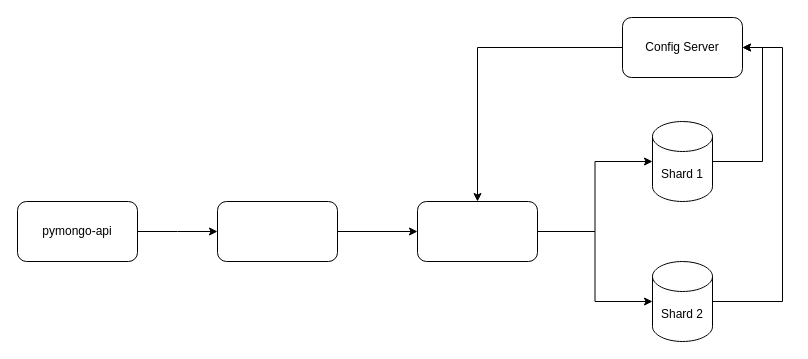
Image size: 808x359. Some labels were removed from this diagram. The box of each missing label's shape, as (x1, y1, x2, y2) in pixels:
Driver: (216, 200, 338, 262)
Router: (416, 200, 538, 262)
